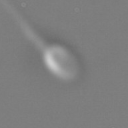normal: (1, 8, 47, 51)
